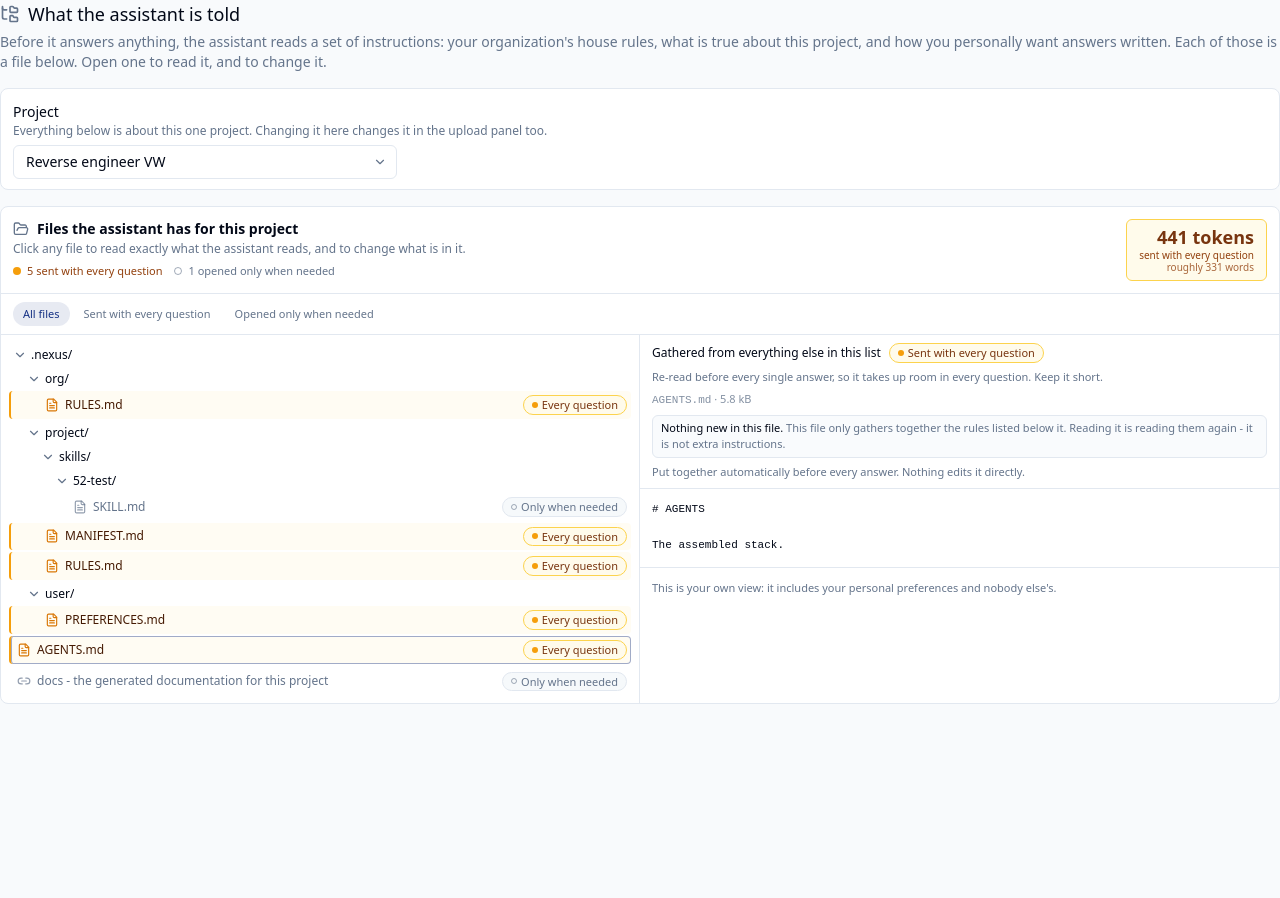
Test case: ProjectStructurePanel › offers the organization file only the kinds it can hold
The width and height of the screenshot is (1280, 898).
Click the 1st button "RULES.md Every question" at (94, 404), box [9,391,631,419]
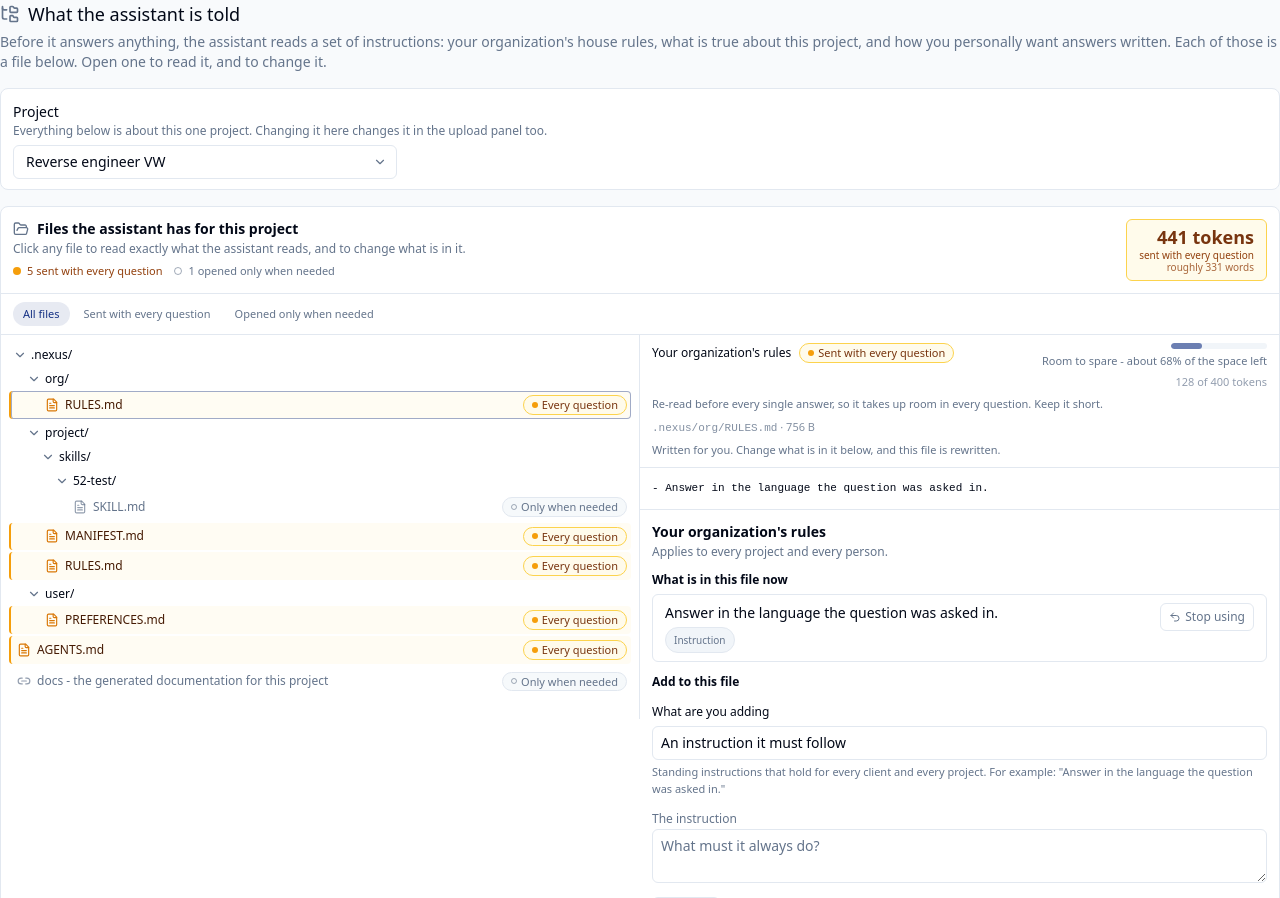
Expected: the text "Standing instructions that hold for every client" is shown, [652,764,1253,796]
